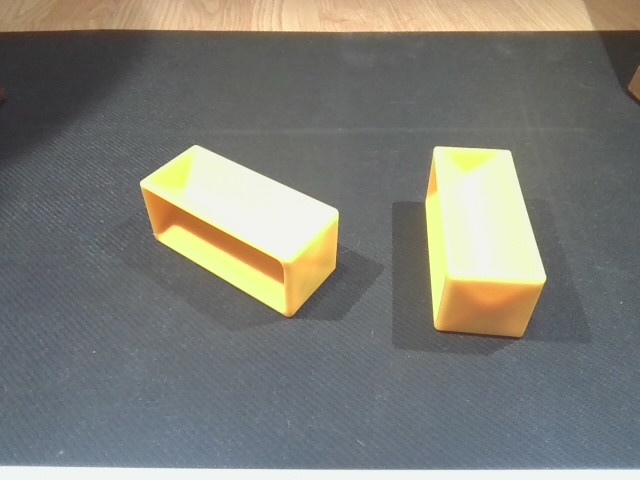YellowSample: (136, 141, 346, 325), (419, 143, 552, 346)
